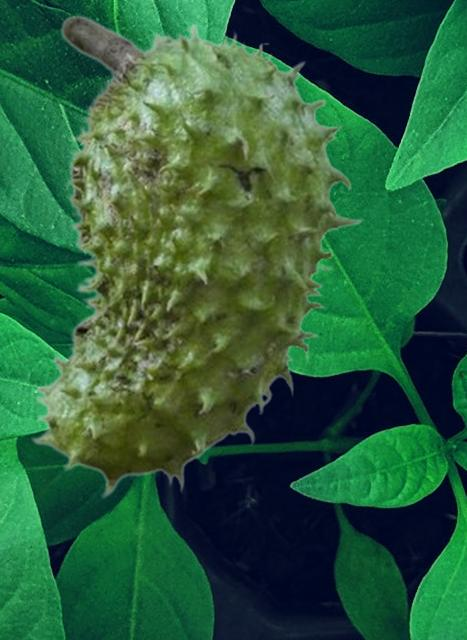guyabano: (29, 14, 363, 498)
